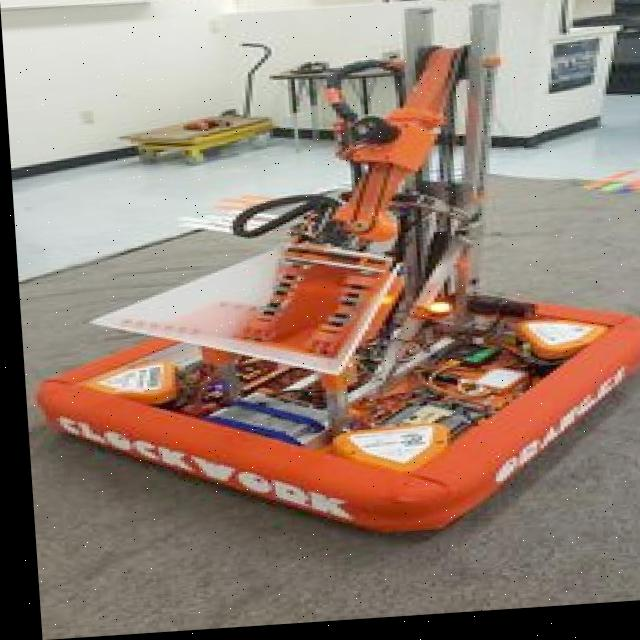robot: (1, 0, 640, 596)
